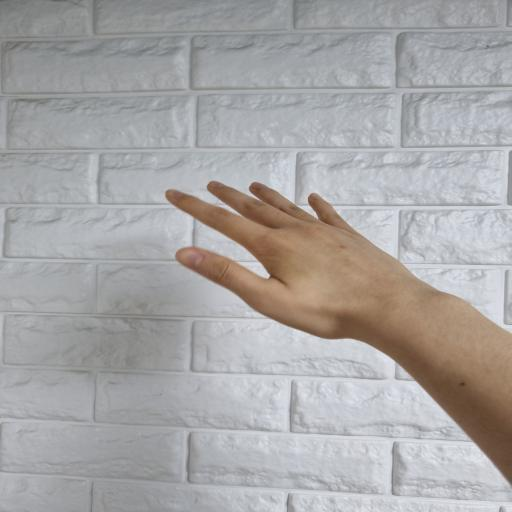Paper: (166, 179, 415, 342)
